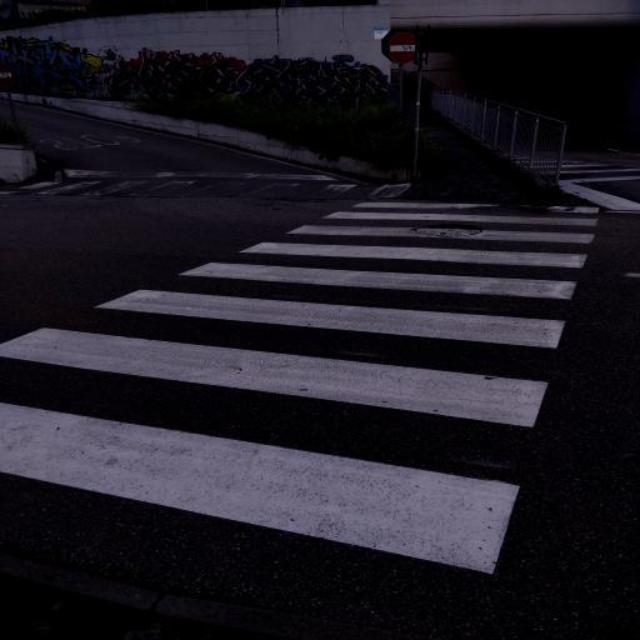sidewalk: (3, 201, 603, 577)
